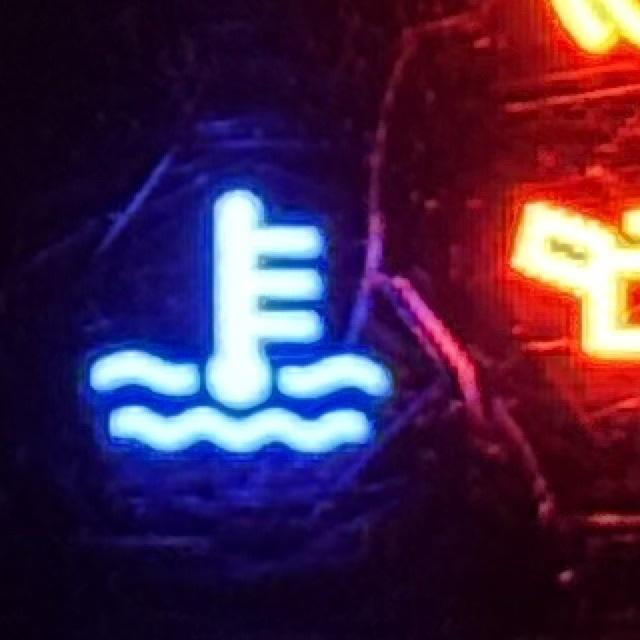High Engine Temperature: (90, 189, 398, 457)
